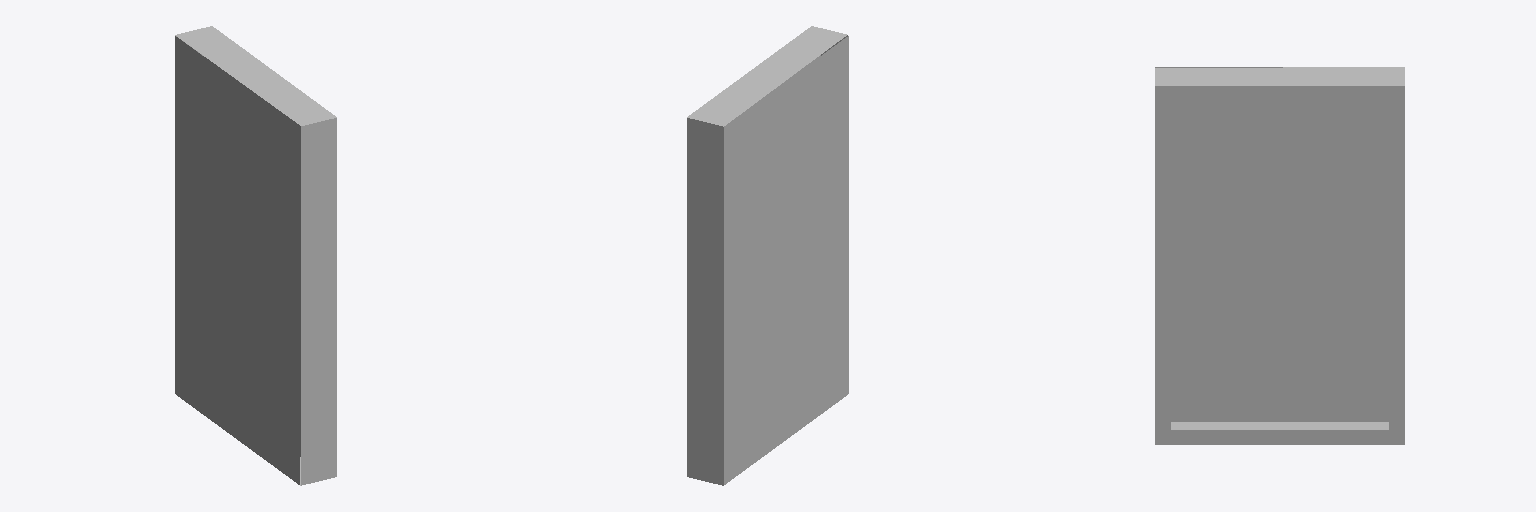
The model's file is photograph.obj.
3 renders of one model, left to right at view 1: azimuth 30°, elevation 25°; view 2: azimuth 150°, elevation 25°; view 3: azimuth 270°, elevation 25°, orthographic.
Visible parts, largest first — view 1: frame_Cube.002; view 2: frame_Cube.002; view 3: photo_Cube.003, frame_Cube.002.
Part boxes in pixels (bbox=[...]): frame_Cube.002: bbox=[175, 26, 336, 485]; frame_Cube.002: bbox=[687, 26, 848, 485]; photo_Cube.003: bbox=[1171, 100, 1388, 421]; frame_Cube.002: bbox=[1155, 67, 1404, 444].
Bounding box in the file's own units: 0.3475 × 3.17 × 2.